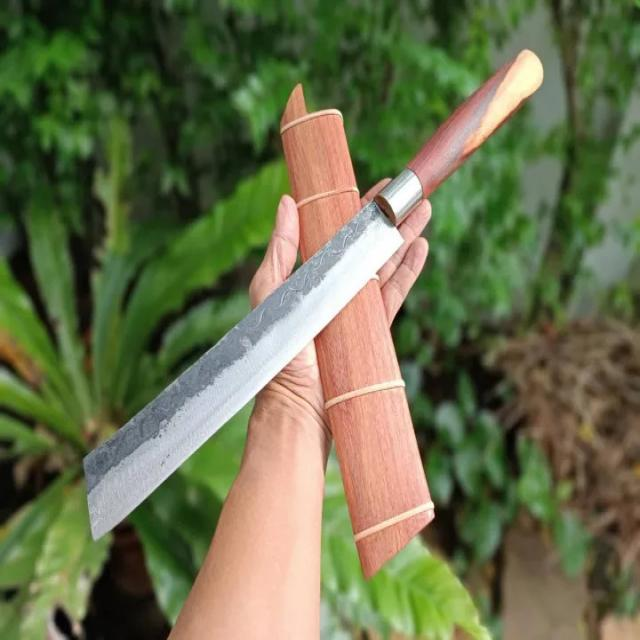eto: (71, 40, 553, 556)
